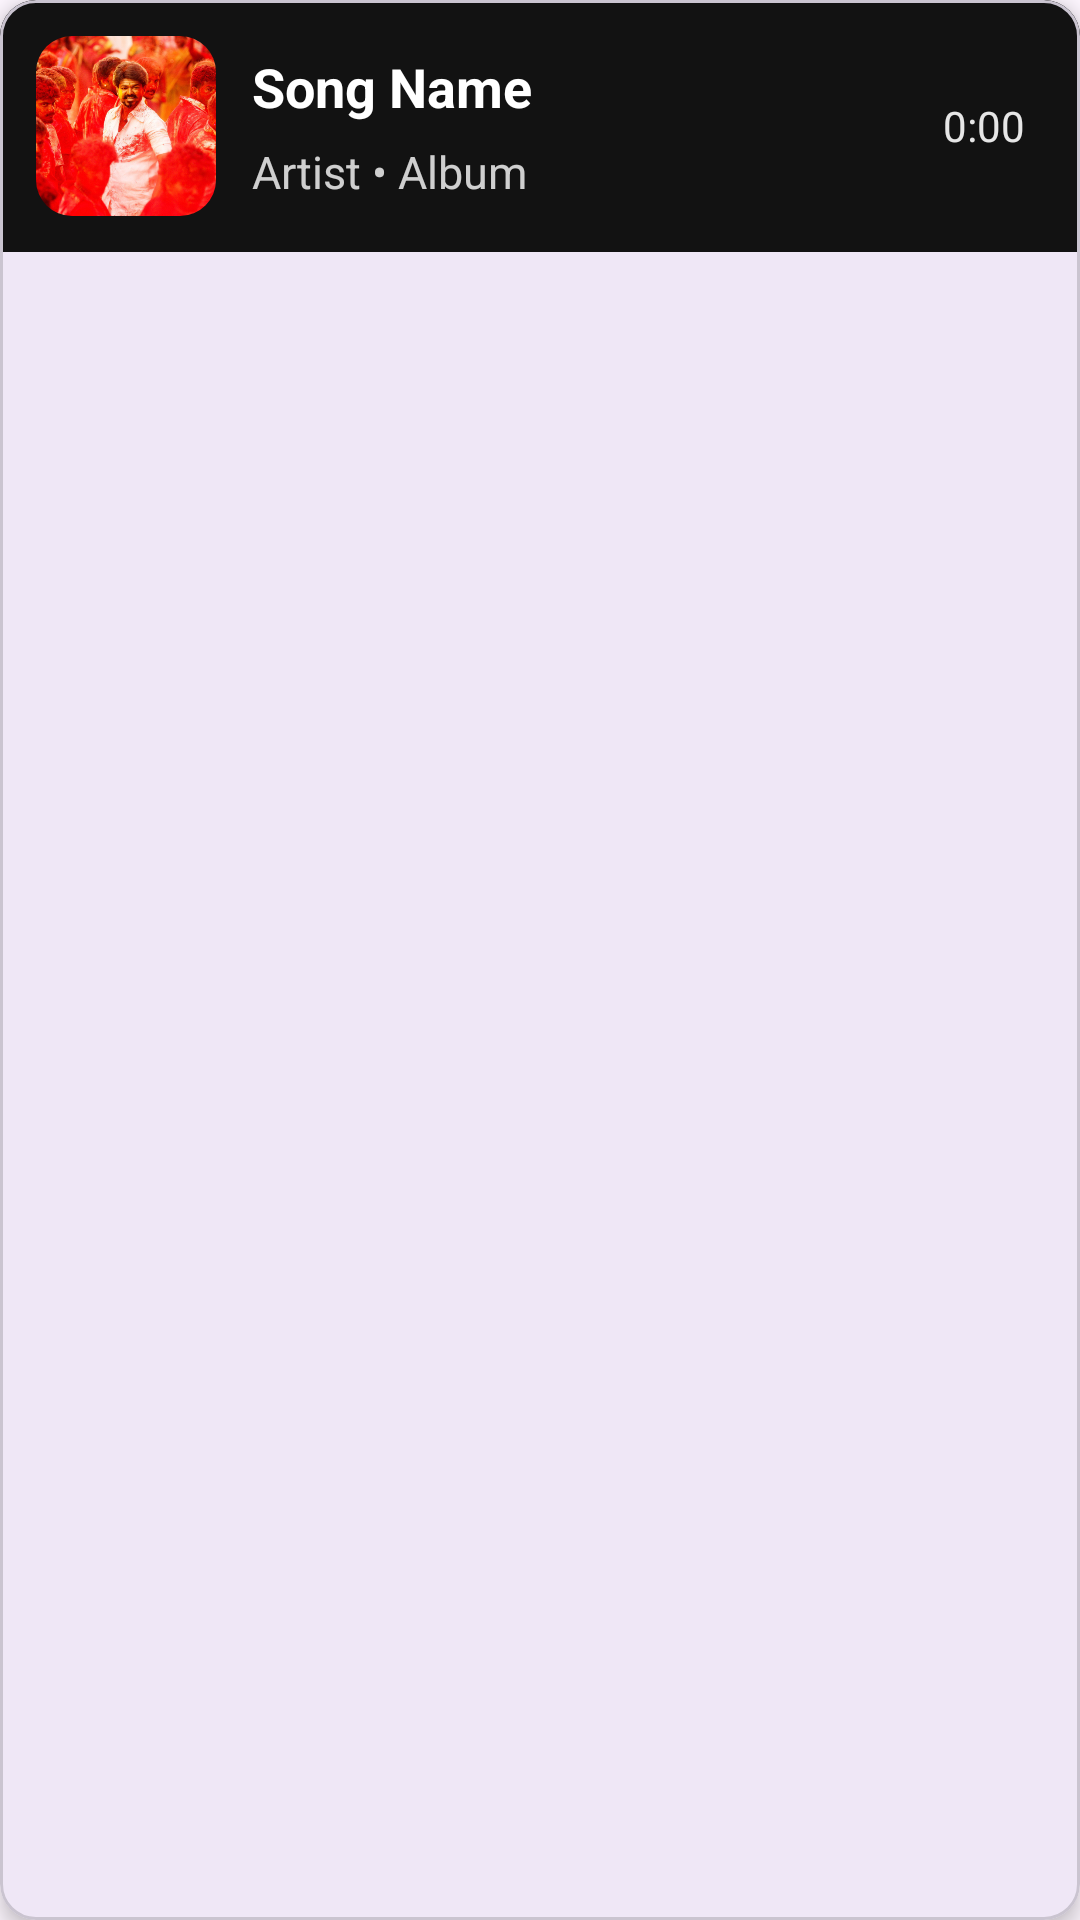

Icon click points for this 1080px×1920px phone screenshot, format (x=x, y=y):
Album artwork: (x=126, y=126)
